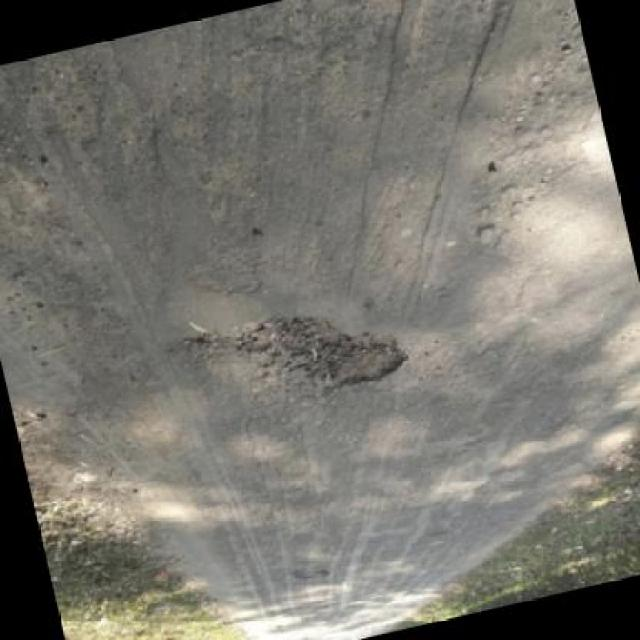pothole1: (235, 289, 418, 414), (296, 565, 335, 587)
